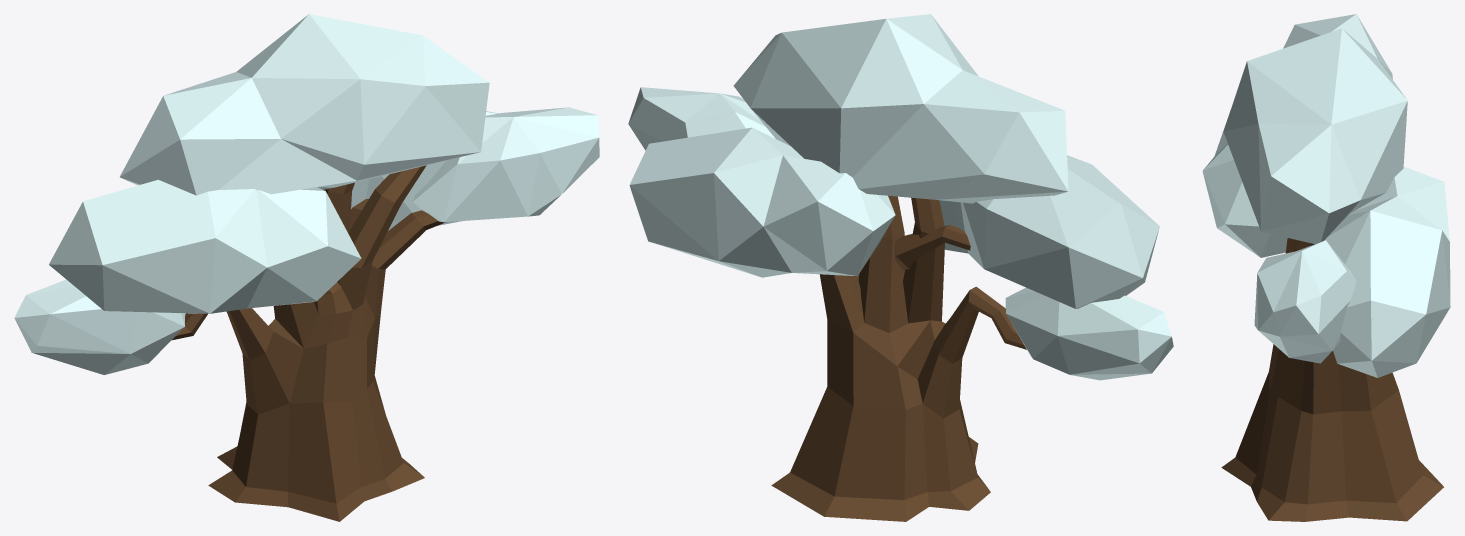
Rendered from tree-baobab_white.glb.
3 views of the same model, side by side, from view 1: azimuth 30°, elevation 25°; view 2: azimuth 150°, elevation 25°; view 3: azimuth 270°, elevation 25° (orthographic).
Visible parts, largest first — view 1: tree-baobab_winter; view 2: tree-baobab_winter; view 3: tree-baobab_winter.
Boxes of the visible parts, x1,y1,x2,y2 form: tree-baobab_winter: (14,14,599,521); tree-baobab_winter: (628,14,1173,521); tree-baobab_winter: (1202,14,1450,521).
Size of the model in its own units: 8.1 by 6.37 by 3.15.
Materials: 1 (1 with a texture image).
